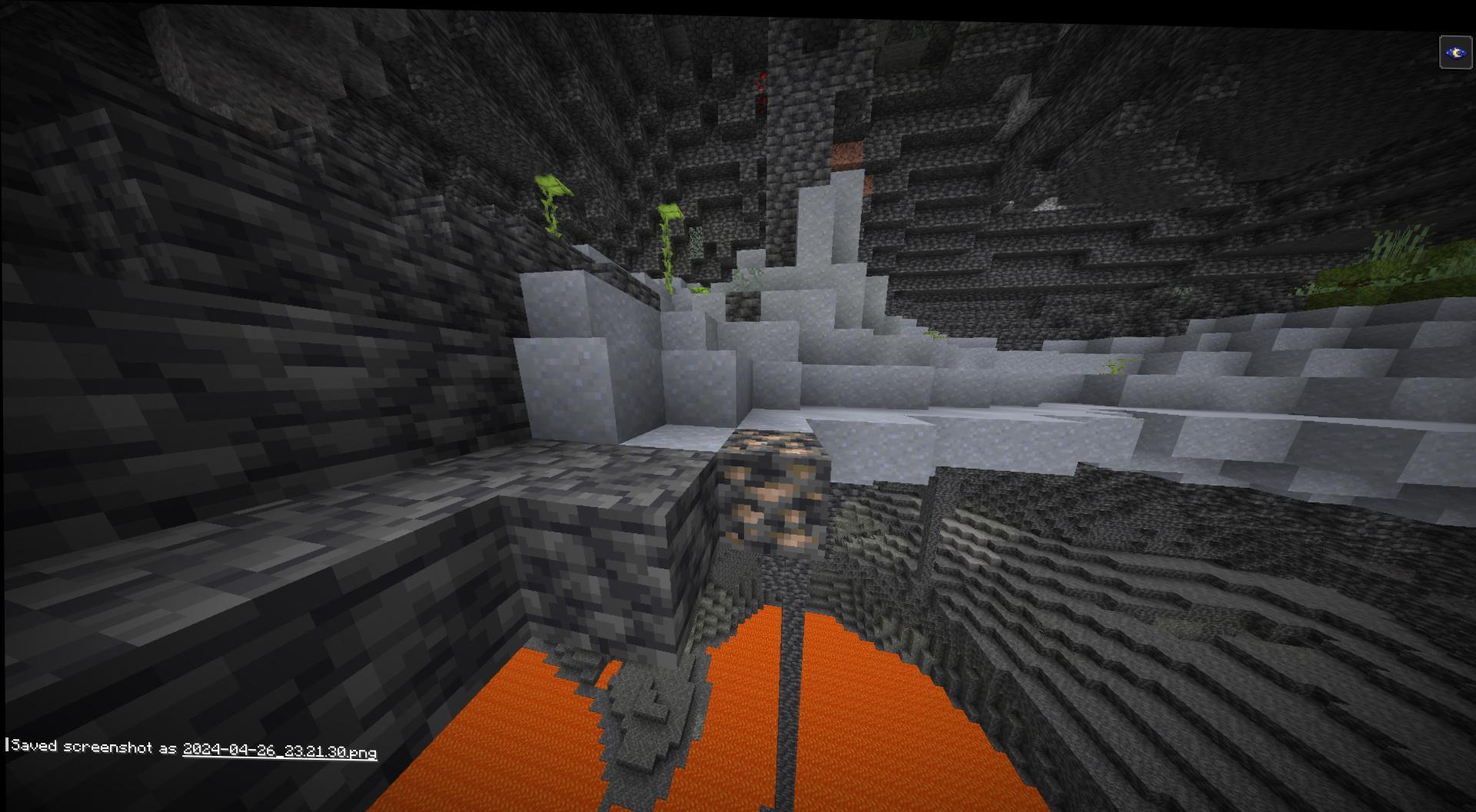iron ore: (723, 454, 822, 547), (723, 426, 814, 458)
